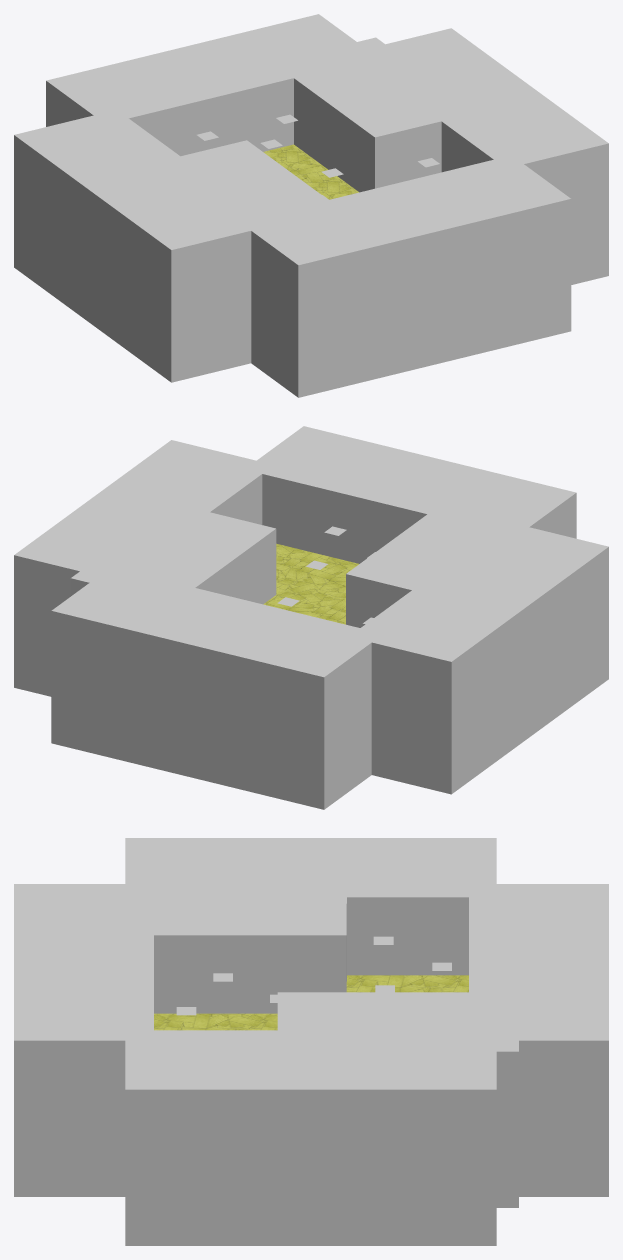
Rendered from level_04.glb.
3 views of the same model, one above another, from view 1: azimuth 30°, elevation 25°; view 2: azimuth 150°, elevation 25°; view 3: azimuth 270°, elevation 25° (orthographic). The views are drawn at different scales.
Visible parts, largest first — view 1: Cube.Invisible.007, Cube.Invisible.008, Cube.Invisible.006, Cube.Invisible.004, Cube.Invisible.002, Cube.Invisible.005, Cube; view 2: Cube.Invisible.006, Cube.Invisible.008, Cube.Invisible.007, Cube.Invisible.004, Cube.Invisible.002, Cube.Invisible.005, Cube; view 3: Cube.Invisible.004, Cube.Invisible.007, Cube.Invisible.006, Cube.Invisible.008, Cube.Invisible.005, Cube.Invisible.002, Cube.
Part boxes in pixels (<box>): Cube.Invisible.007: <box>239,155,571,397</box>; Cube.Invisible.008: <box>14,115,267,382</box>; Cube.Invisible.006: <box>46,14,377,156</box>; Cube.Invisible.004: <box>354,28,608,284</box>; Cube.Invisible.002: <box>273,37,477,192</box>; Cube.Invisible.005: <box>144,140,327,225</box>; Cube: <box>263,144,358,199</box>; Cube.Invisible.006: <box>51,567,382,809</box>; Cube.Invisible.008: <box>354,527,608,794</box>; Cube.Invisible.007: <box>244,426,576,563</box>; Cube.Invisible.004: <box>14,440,269,696</box>; Cube.Invisible.002: <box>70,503,276,604</box>; Cube.Invisible.005: <box>346,514,530,627</box>; Cube: <box>263,543,358,624</box>; Cube.Invisible.004: <box>125,1030,496,1245</box>; Cube.Invisible.007: <box>14,884,153,1196</box>; Cube.Invisible.006: <box>469,884,608,1196</box>; Cube.Invisible.008: <box>125,838,496,975</box>; Cube.Invisible.005: <box>153,876,346,1013</box>; Cube.Invisible.002: <box>277,992,518,1207</box>; Cube: <box>154,975,468,1030</box>.
Bounding box in the file's own units: 60.46 × 17.5 × 60.41.
Materials: 1 (1 with a texture image).
